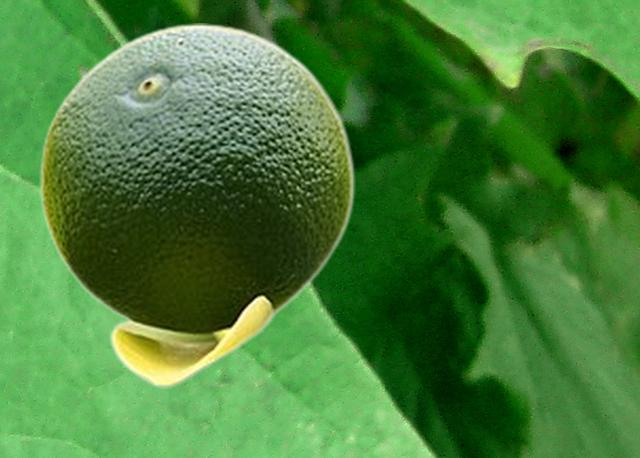calamansi: (39, 23, 354, 387)
